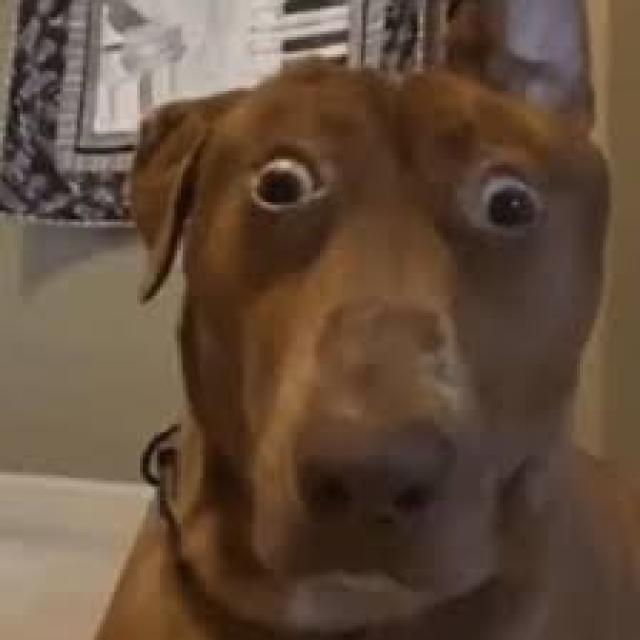dog: (127, 87, 640, 640)
